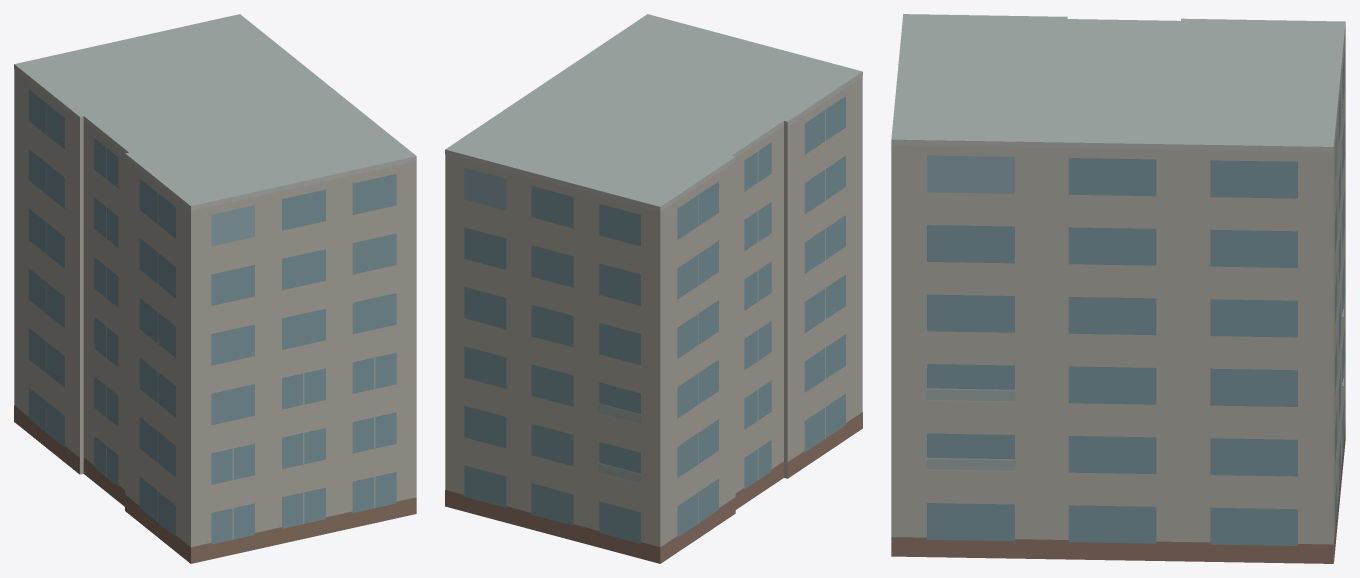
File: survey-upis-32926710.glb
3 renders of one model, left to right at view 1: azimuth 30°, elevation 25°; view 2: azimuth 150°, elevation 25°; view 3: azimuth 270°, elevation 25°, orthographic. The views are drawn at different scales.
Visible parts, largest first — view 1: survey-upis-32926710.tmp; view 2: survey-upis-32926710.tmp; view 3: survey-upis-32926710.tmp.
Part boxes in pixels (x1,y1,x2,y2): survey-upis-32926710.tmp: [14, 14, 416, 563]; survey-upis-32926710.tmp: [445, 14, 862, 563]; survey-upis-32926710.tmp: [891, 14, 1345, 563].
Bounding box in the file's own units: 12.32 × 18 × 17.79.
